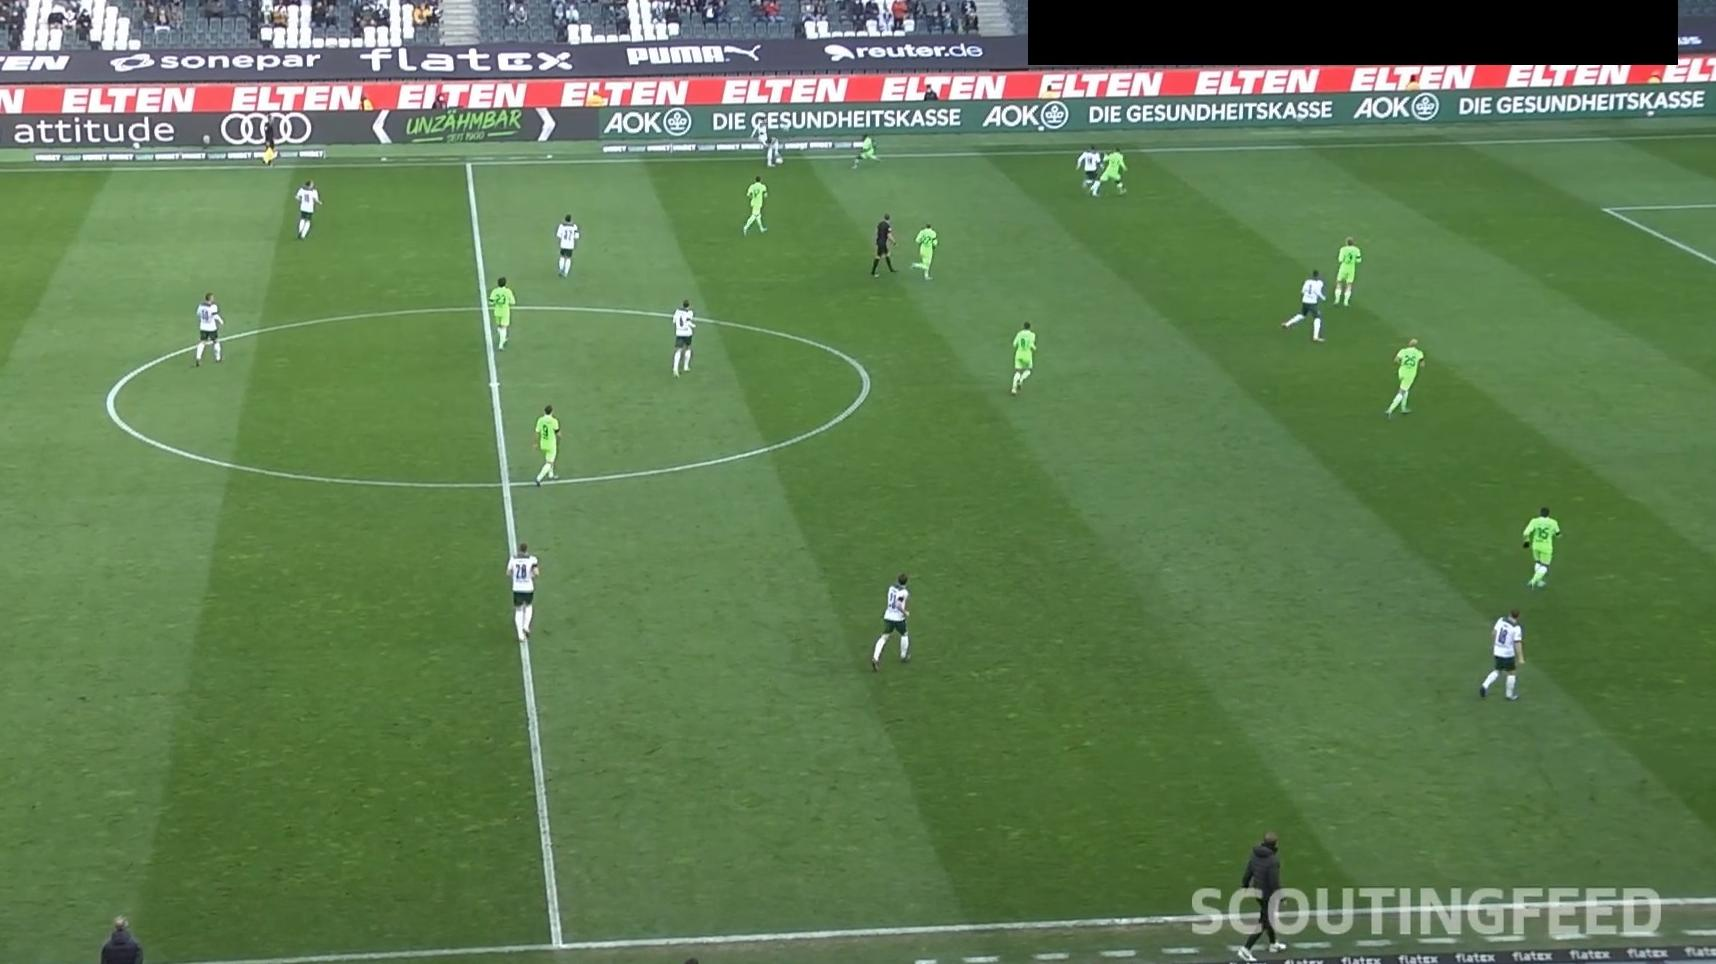ball: (774, 154, 784, 165)
